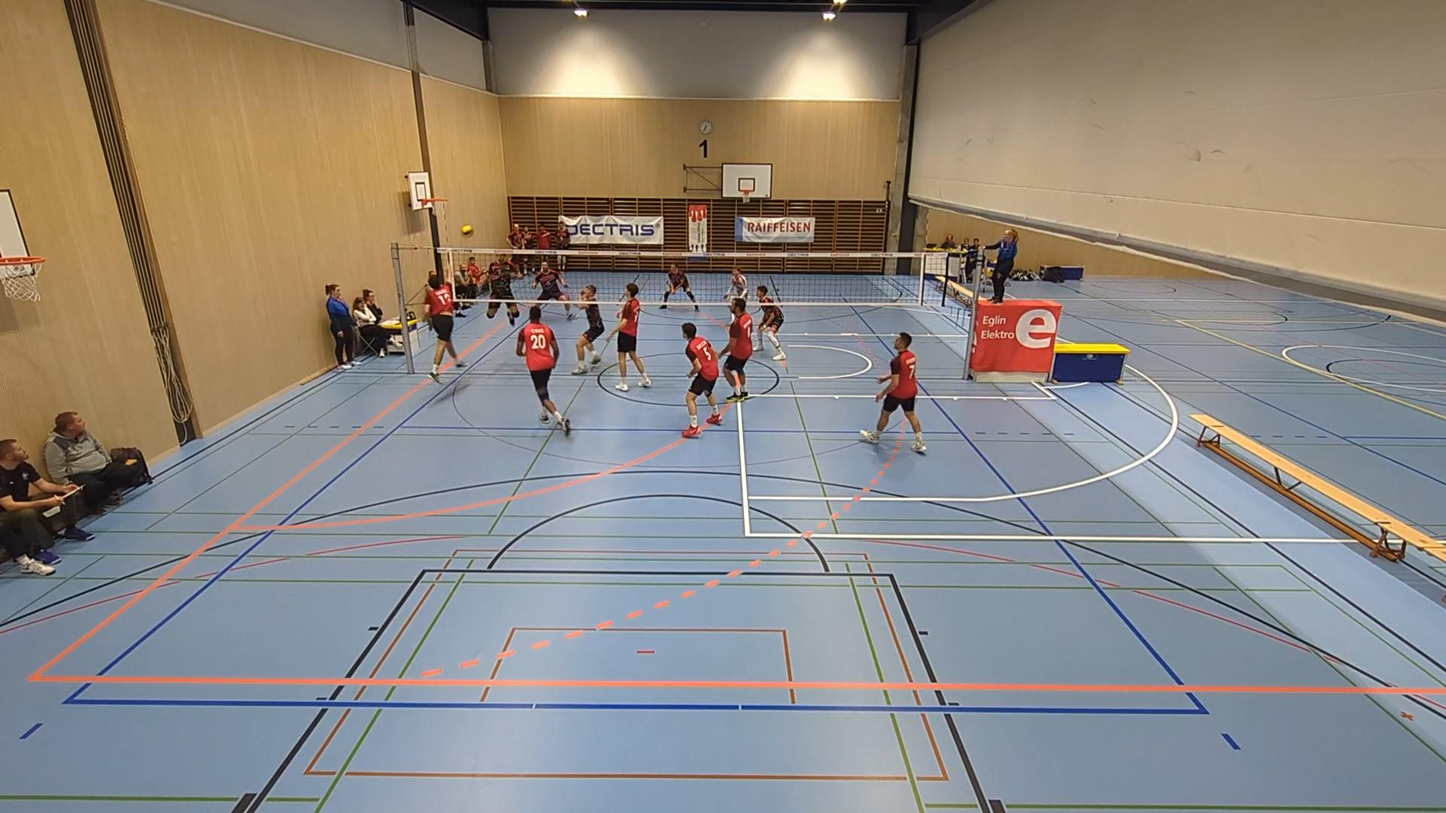Attack: (416, 266, 469, 382)
Block: (481, 243, 520, 325)
Player: (861, 332, 926, 452), (516, 305, 569, 435), (682, 322, 722, 437), (610, 283, 651, 391), (572, 285, 605, 374), (724, 298, 752, 400), (534, 260, 575, 319), (755, 285, 786, 361), (660, 263, 699, 311), (724, 268, 746, 301)
ball: (460, 224, 474, 235)
